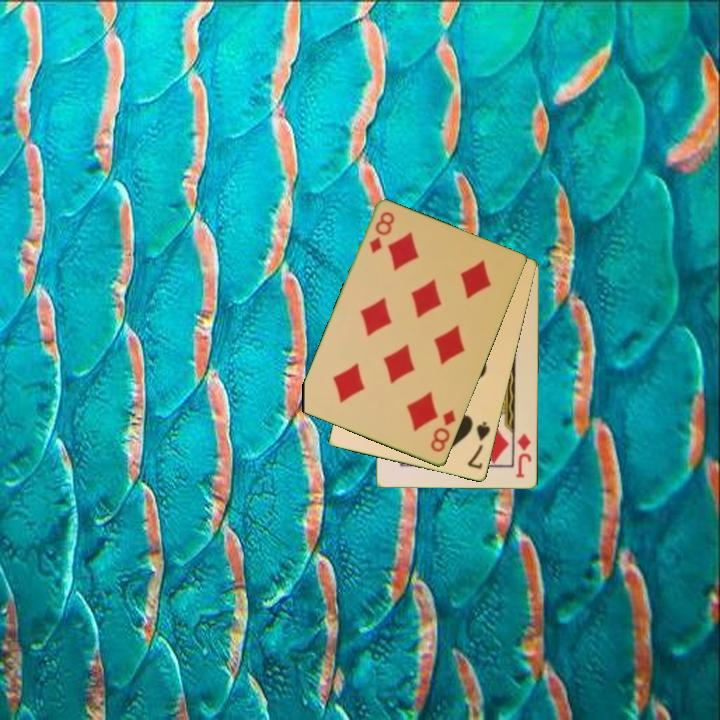7s: (464, 418, 493, 472)
8d: (427, 407, 459, 456), (366, 208, 398, 256)
Jd: (513, 430, 534, 481)
